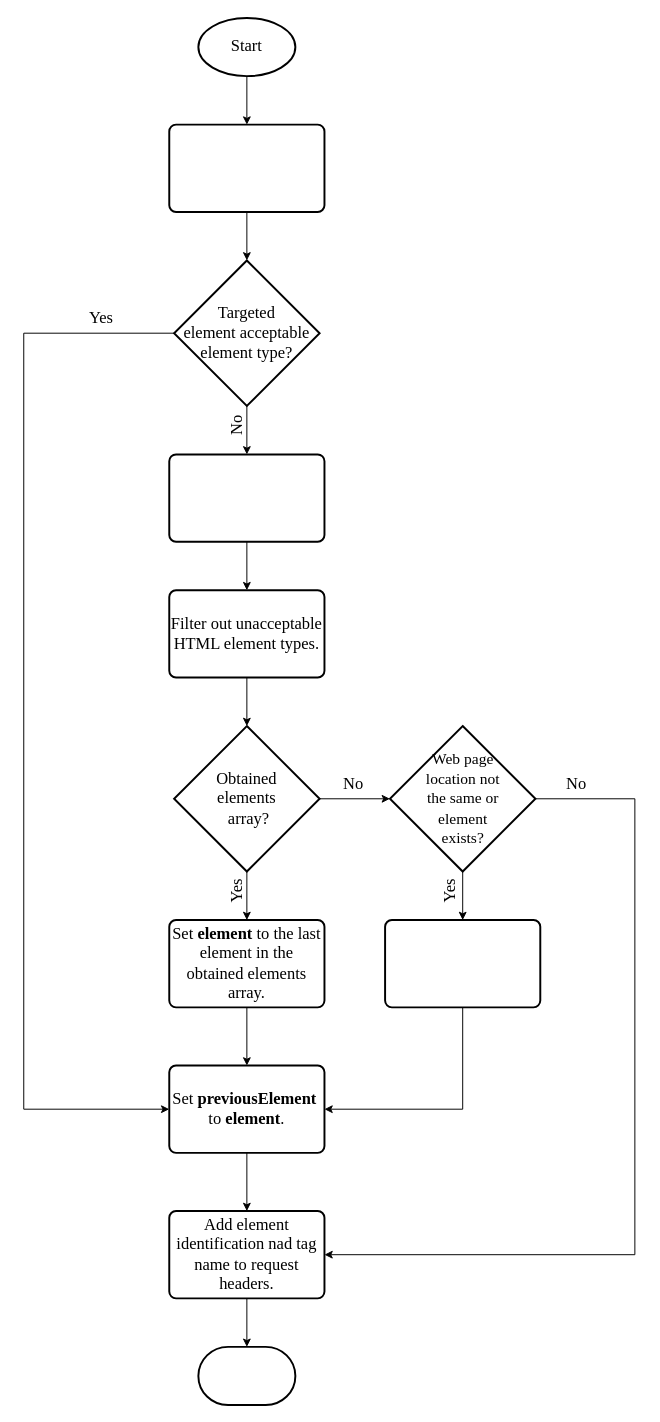
The diagram is 660 pixels wide and 1422 high, and some of its shapes have lost their labels. The shapes that lost their labels are listed below. From the top down, each one's box as (x1, y1, x2, y2) in pixels, then its label:
(168, 123, 325, 212): Get targeted element.
(168, 453, 325, 542): Get current element(s) that the user hovers over.
(384, 919, 541, 1008): Set element to previousElement .
(197, 1345, 296, 1406): End
